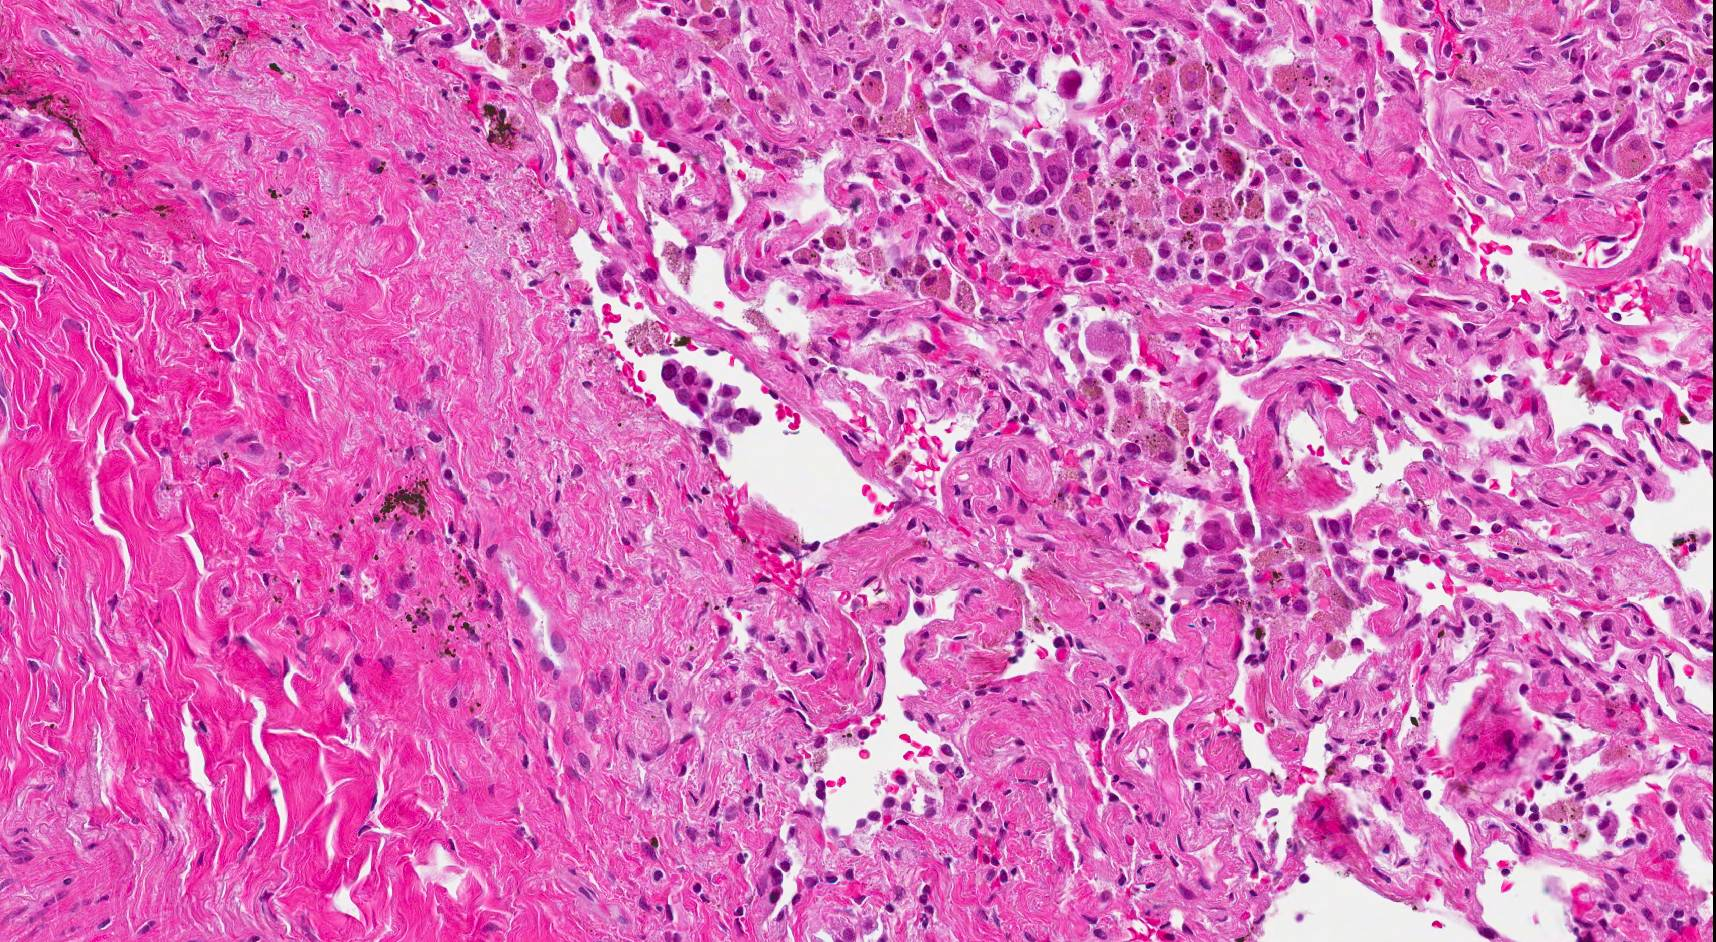stas: (925, 87, 1077, 207), (654, 360, 771, 452), (1174, 516, 1253, 604), (1313, 504, 1374, 604)
